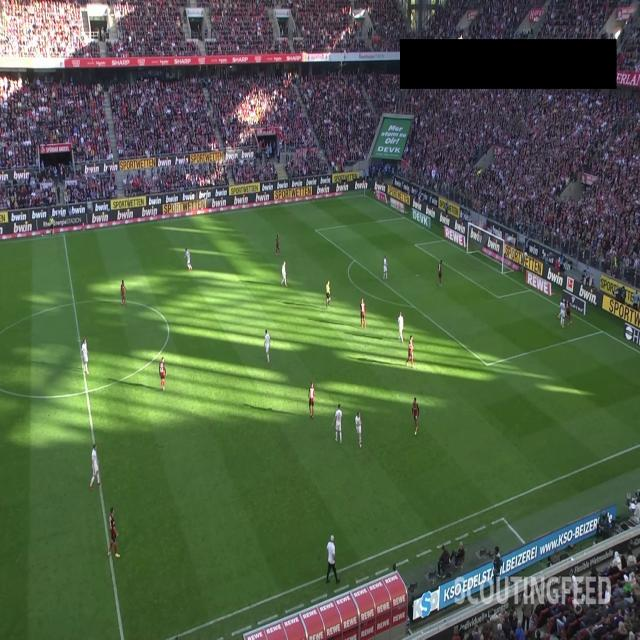player: (108, 506, 120, 558), (89, 443, 102, 491), (332, 403, 342, 443), (405, 335, 415, 367), (81, 338, 89, 374), (412, 396, 419, 435), (308, 381, 315, 419), (355, 411, 362, 448), (159, 356, 166, 391), (558, 299, 566, 327), (120, 279, 128, 305), (280, 261, 288, 287), (264, 329, 270, 363), (398, 311, 404, 344), (360, 297, 366, 328), (437, 259, 443, 287), (185, 247, 192, 271), (566, 299, 572, 325), (275, 233, 281, 256), (383, 255, 388, 280)
referee: (326, 280, 331, 308), (50, 215, 55, 237)
